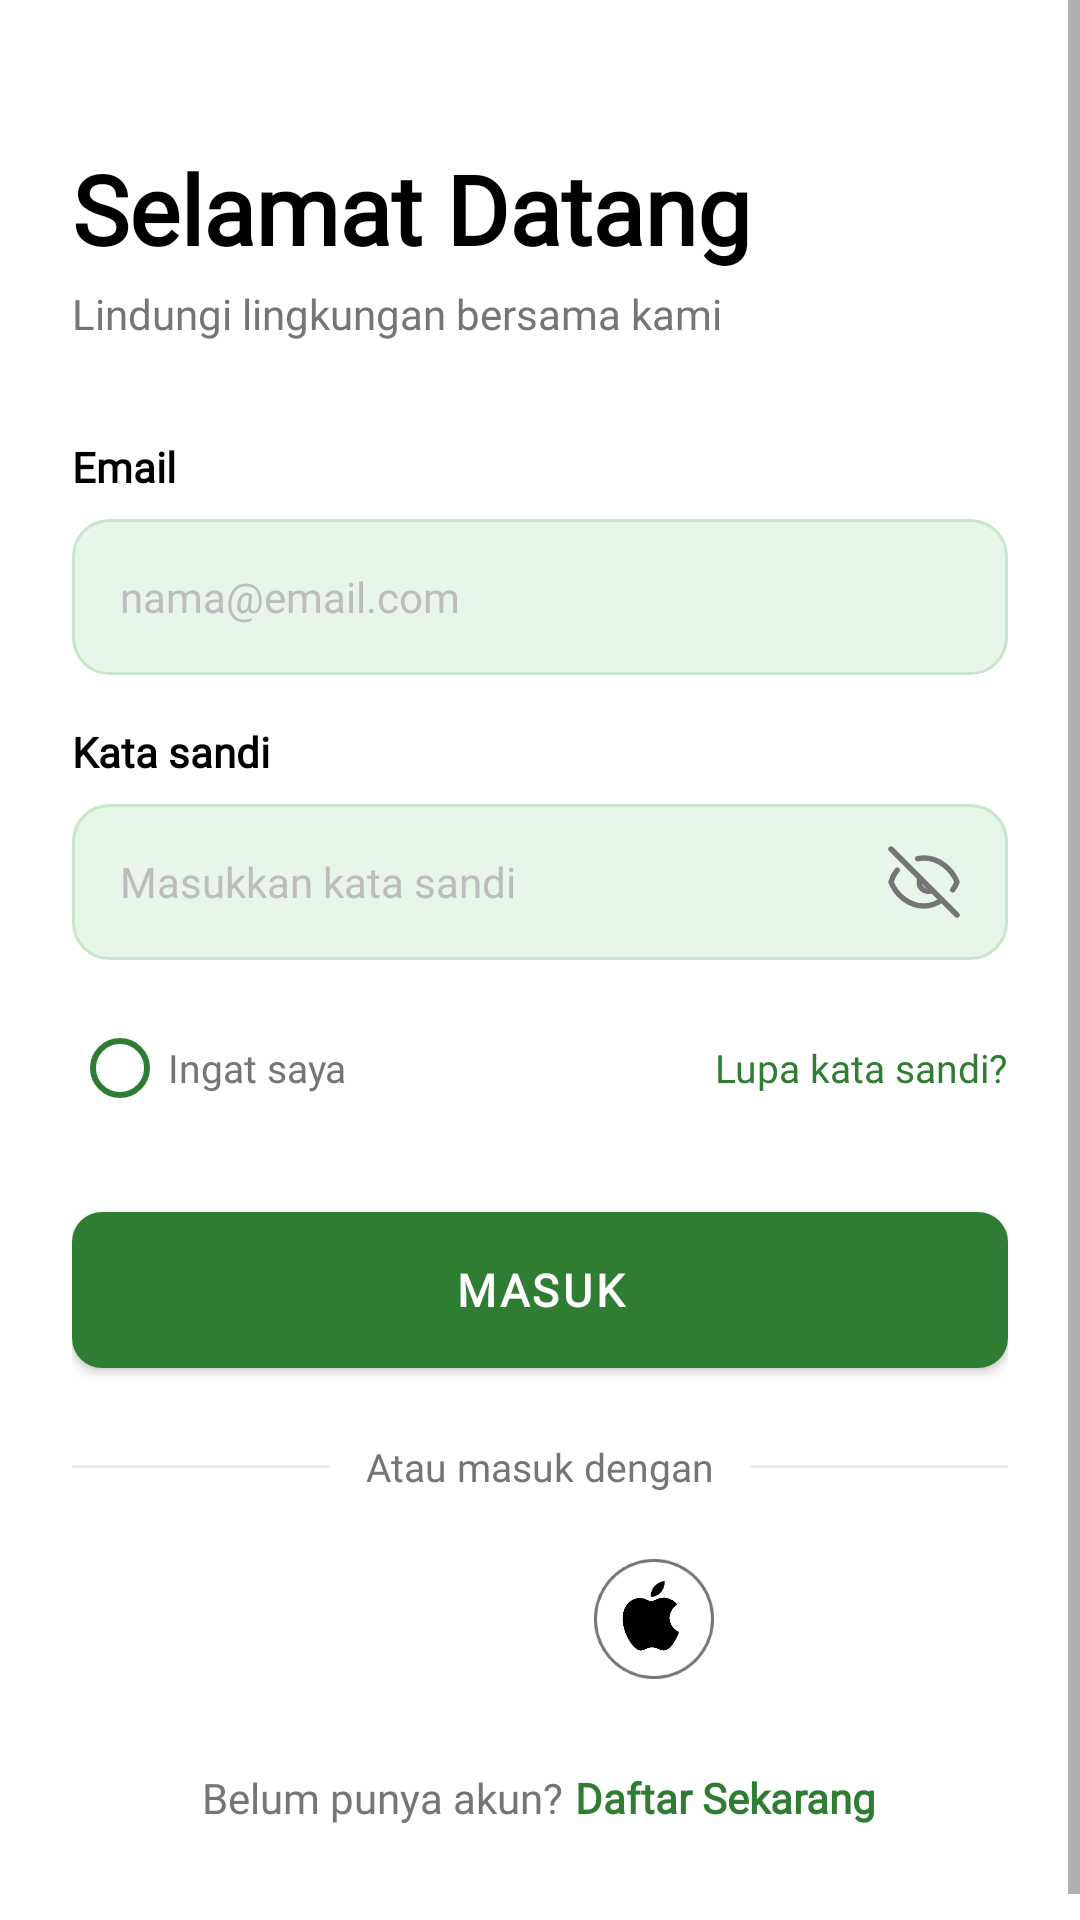

Icon bounding boxes for this 1080px×1920px phone screenshot, format (x1, y1, x2, y2):
Tampilkan/sembunyikan kata sandi: (888, 846, 960, 918)
